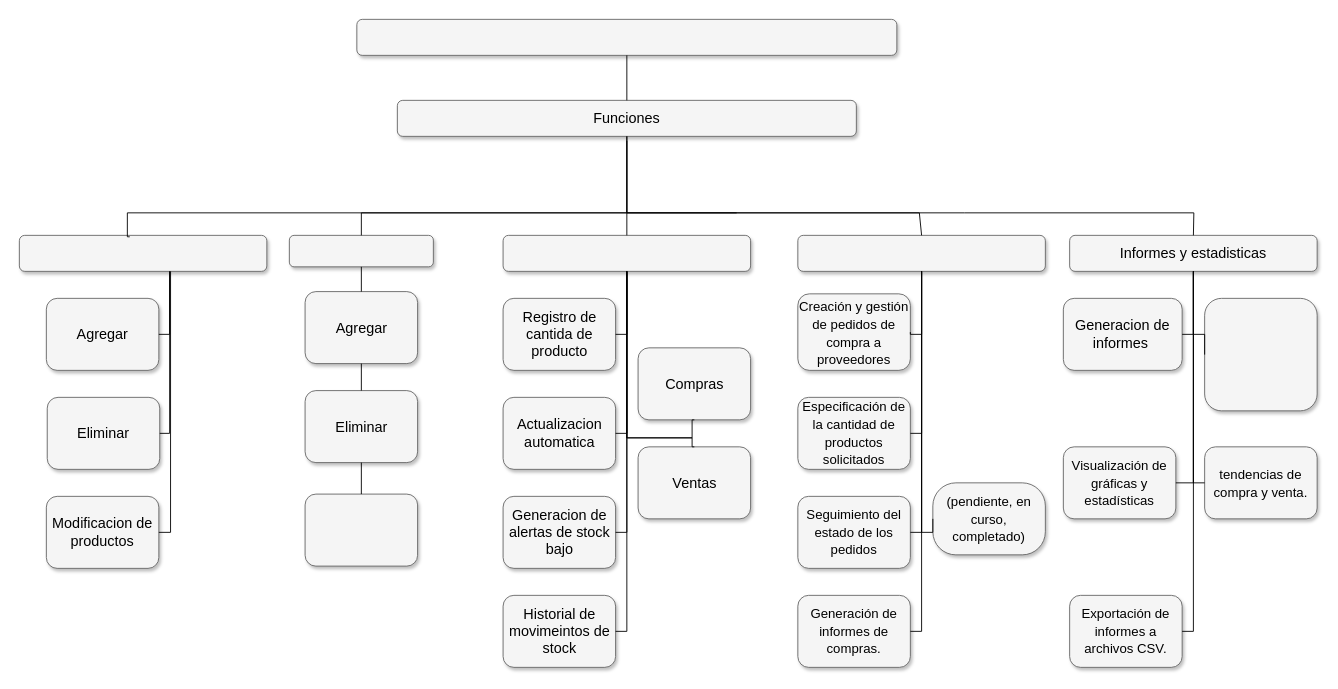
Some shapes in this 1338 by 689 pixel diagram are drawn without their labels. The centre of each missing label's shape, as x and y in pixels:
"Categorias" goes at pixel 362 252.
"Control de existencias" goes at pixel 627 254.
"Gestio de productos" goes at pixel 143 254.
"Modificacion de categorias" goes at pixel 362 531.
"Pedidos de compra" goes at pixel 922 254.
"Sistema de gestion de inventario" goes at pixel 627 38.
"sobre el inventario actual, valor total y productos con mayor y menor rotacion" goes at pixel 1261 355.
